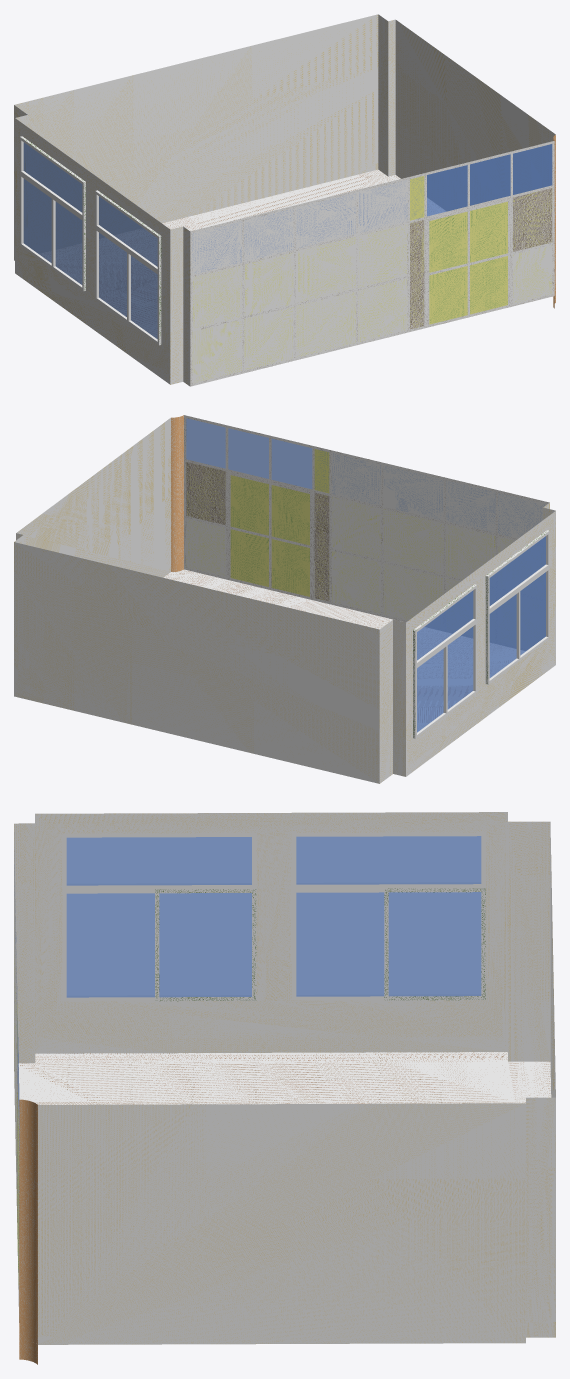
Rendered from LAB024.obj.
3 views of the same model, one above another, from view 1: azimuth 30°, elevation 25°; view 2: azimuth 150°, elevation 25°; view 3: azimuth 270°, elevation 25° (orthographic). The views are drawn at different scales.
Visible parts, largest first — view 1: Mesh13 LAB024 Model, Mesh7 ventana1_2_2 LAB024 Model, Mesh1 ventana1_2_1 LAB024 Model; view 2: Mesh13 LAB024 Model, Mesh7 ventana1_2_2 LAB024 Model, Mesh1 ventana1_2_1 LAB024 Model; view 3: Mesh13 LAB024 Model, Mesh1 ventana1_2_1 LAB024 Model, Mesh7 ventana1_2_2 LAB024 Model.
Boxes of the visible parts, x1,y1,x2,y2 form: Mesh13 LAB024 Model: (14,14,555,386); Mesh7 ventana1_2_2 LAB024 Model: (95,190,161,345); Mesh1 ventana1_2_1 LAB024 Model: (20,136,85,291); Mesh13 LAB024 Model: (14,415,555,783); Mesh7 ventana1_2_2 LAB024 Model: (485,530,549,684); Mesh1 ventana1_2_1 LAB024 Model: (413,584,476,738); Mesh13 LAB024 Model: (14,812,555,1364); Mesh1 ventana1_2_1 LAB024 Model: (291,832,485,1000); Mesh7 ventana1_2_2 LAB024 Model: (62,833,256,1001).
Size of the model in its own units: 7.9 by 3.25 by 6.14.
11 materials, 2 textured.
